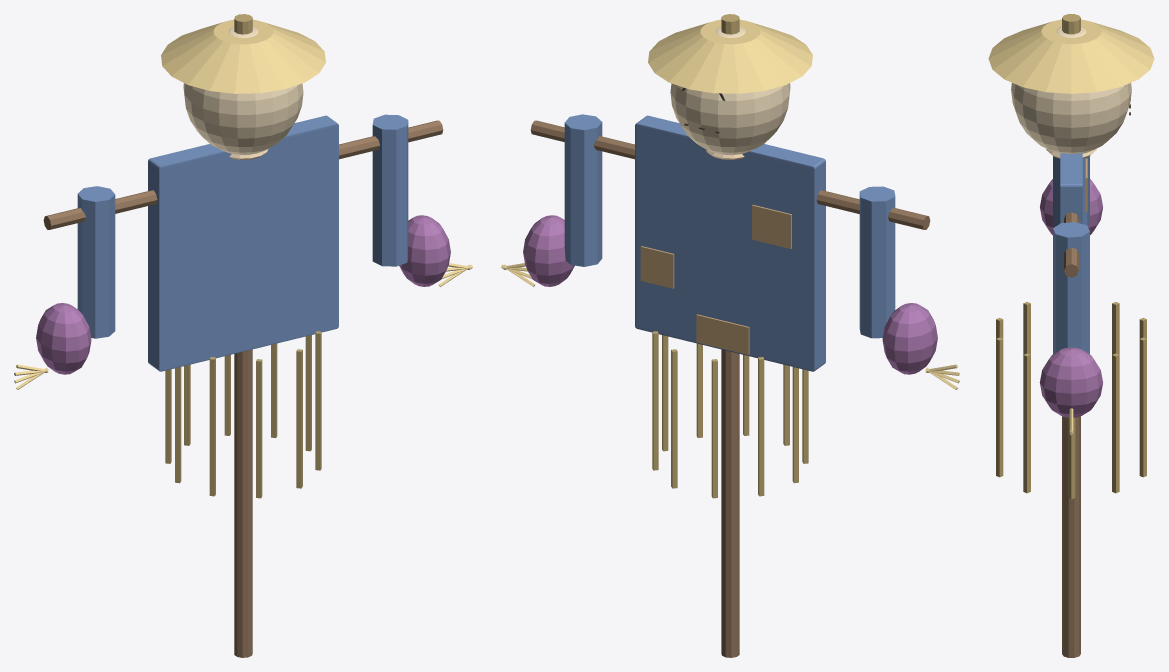
The model's file is scarecrow.glb.
The picture shows the model from 3 angles, left to right: view 1: azimuth 30°, elevation 25°; view 2: azimuth 150°, elevation 25°; view 3: azimuth 270°, elevation 25°; orthographic projection.
Visible parts, largest first — view 1: scarecrow; view 2: scarecrow; view 3: scarecrow.
Boxes of the visible parts, x1=… form: scarecrow: x1=14, y1=14, x2=472, y2=657; scarecrow: x1=501, y1=14, x2=959, y2=657; scarecrow: x1=988, y1=14, x2=1154, y2=657.
Size of the model in its own units: 1.4 by 1.86 by 0.44.
